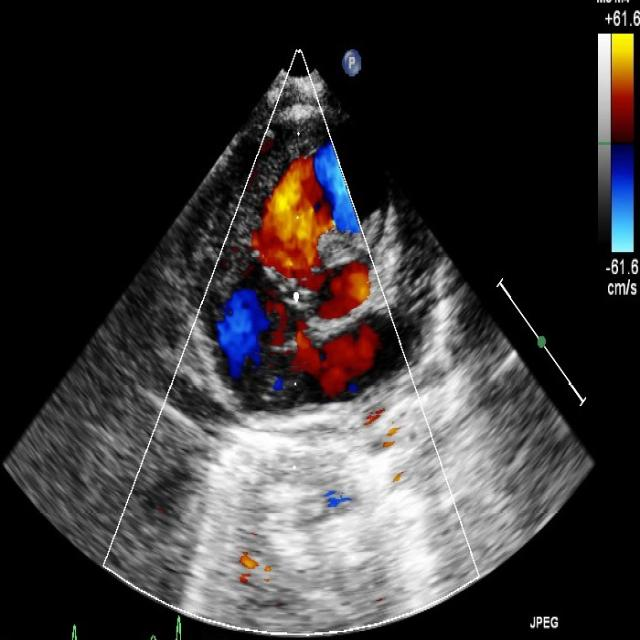VSDType2: (257, 154, 336, 396)
